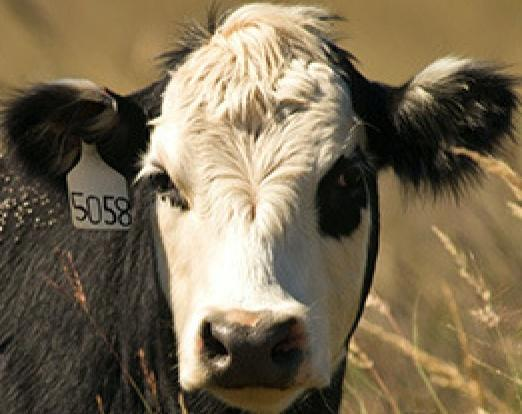muzzles: (176, 303, 335, 408)
